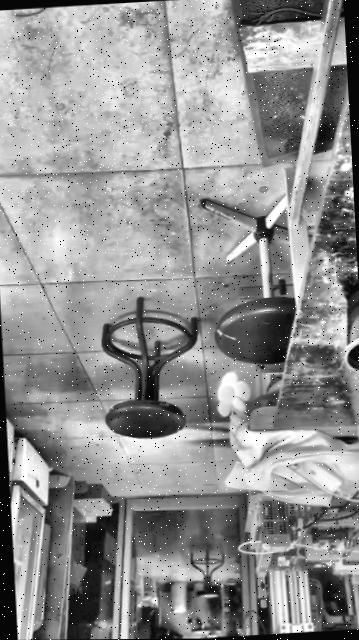pot: (339, 276, 359, 375)
